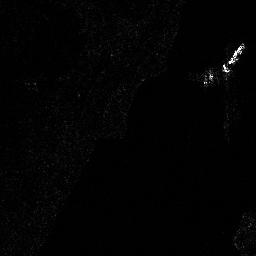ship: (223, 42, 245, 73)
